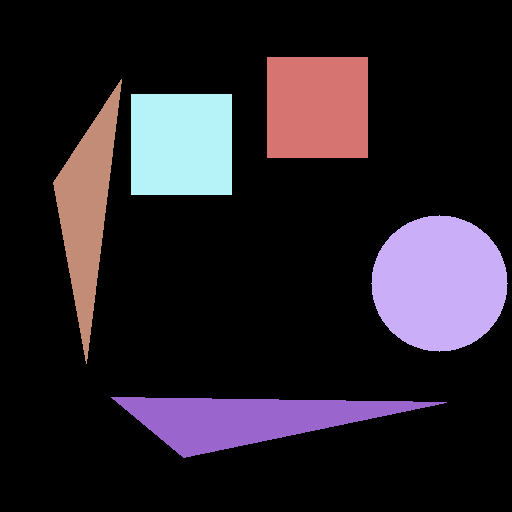circle: (371, 215, 507, 351)
square: (131, 94, 231, 194), (267, 57, 367, 157)
triangle: (111, 397, 446, 457), (53, 79, 121, 363)
